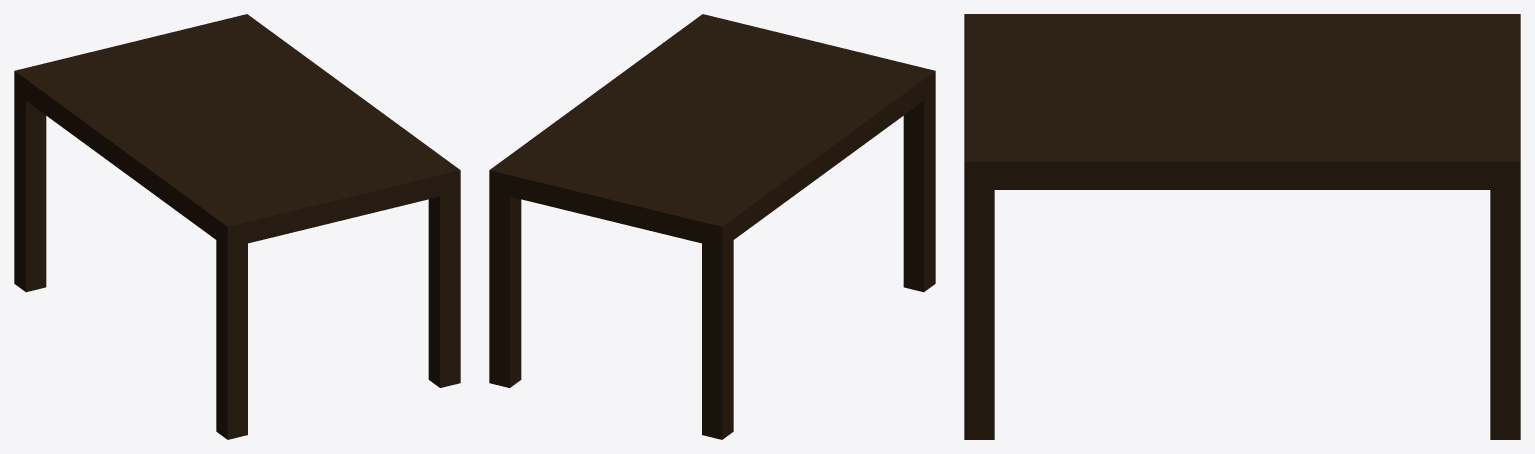
The model's file is table.fbx.
The picture shows the model from 3 angles, left to right: view 1: azimuth 30°, elevation 25°; view 2: azimuth 150°, elevation 25°; view 3: azimuth 270°, elevation 25°; orthographic projection. The views are drawn at different scales.
Parts seen in each view (by area): view 1: Cube; view 2: Cube; view 3: Cube.
Part boxes in pixels (x1,y1,x2,y2): Cube: [14, 14, 460, 439]; Cube: [489, 14, 935, 439]; Cube: [964, 14, 1520, 439].
Size of the model in its own units: 211 by 185 by 335.
